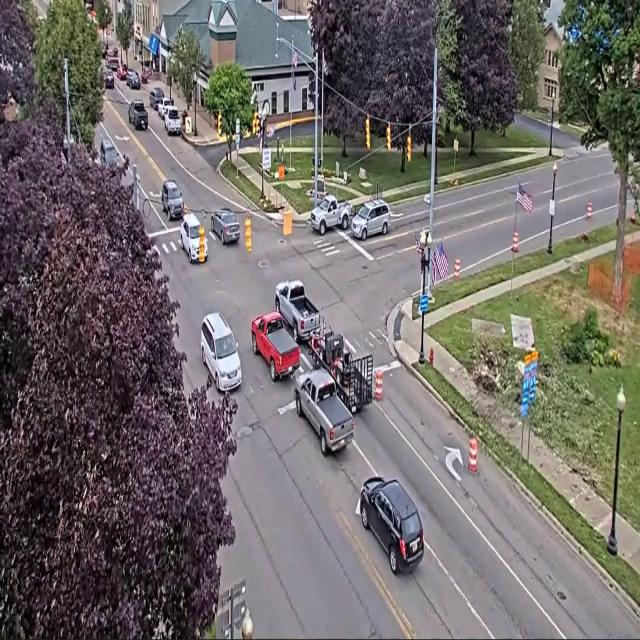car: (359, 477, 424, 574), (201, 312, 241, 391), (351, 200, 390, 240), (180, 214, 207, 263), (211, 208, 239, 244), (161, 180, 184, 220), (99, 139, 119, 168), (157, 96, 173, 119), (149, 88, 164, 111), (127, 70, 141, 89), (116, 64, 128, 80), (107, 56, 119, 72), (104, 69, 114, 88)
traffic signal: (244, 214, 252, 252), (199, 225, 206, 262), (252, 112, 259, 135), (386, 124, 391, 151), (366, 117, 370, 150), (407, 134, 411, 161), (217, 112, 221, 136)
truck: (309, 323, 373, 413), (294, 370, 353, 455), (251, 312, 299, 382), (275, 280, 320, 343), (310, 195, 352, 235), (129, 100, 148, 129), (164, 106, 181, 135)
